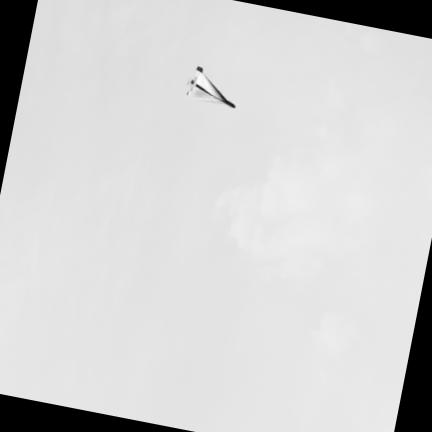Shahed: (188, 67, 235, 106)
